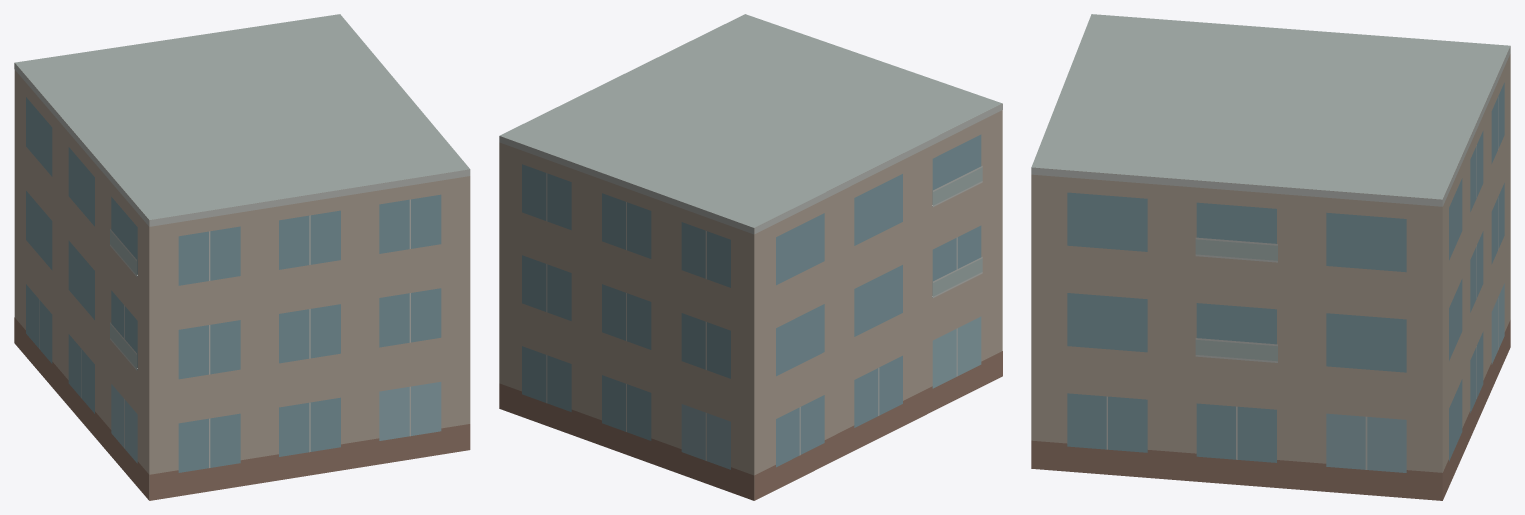
The model's file is survey-upis-32664567.glb.
The picture shows the model from 3 angles, left to right: view 1: azimuth 30°, elevation 25°; view 2: azimuth 150°, elevation 25°; view 3: azimuth 270°, elevation 25°; orthographic projection. The views are drawn at different scales.
Parts seen in each view (by area): view 1: survey-upis-32664567.tmp; view 2: survey-upis-32664567.tmp; view 3: survey-upis-32664567.tmp.
Boxes of the visible parts, left/top/right/bottom form: survey-upis-32664567.tmp: left=14, top=14, right=470, bottom=500; survey-upis-32664567.tmp: left=499, top=14, right=1002, bottom=500; survey-upis-32664567.tmp: left=1031, top=14, right=1510, bottom=500.
Size of the model in its own units: 13.49 by 10.2 by 14.72.
